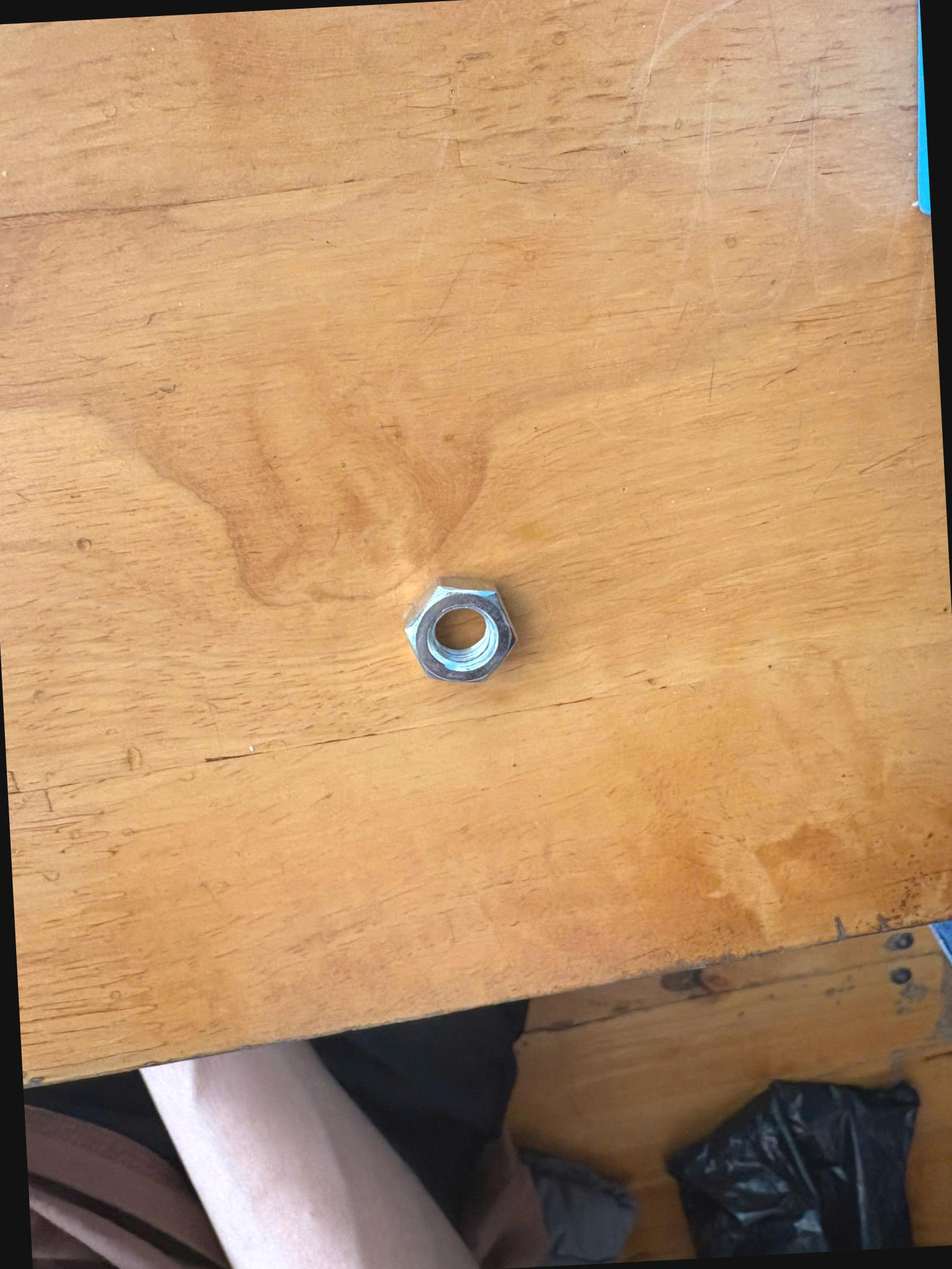nut: (381, 566, 525, 719)
